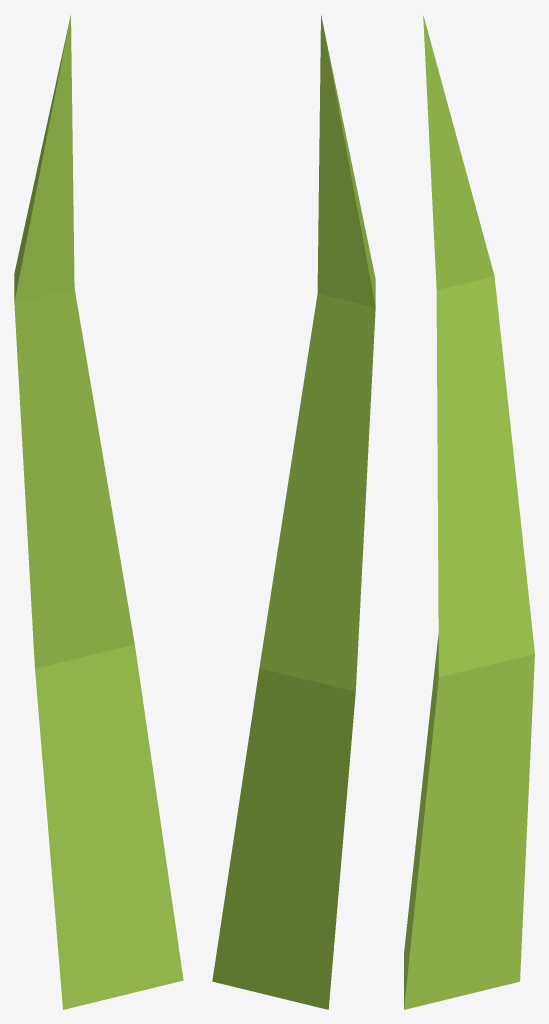
Rendered from blade01.fbx.
The picture shows the model from 3 angles, left to right: view 1: azimuth 30°, elevation 25°; view 2: azimuth 210°, elevation 25°; view 3: azimuth 270°, elevation 25°; orthographic projection. The views are drawn at different scales.
Parts seen in each view (by area): view 1: GrassBlade; view 2: GrassBlade; view 3: GrassBlade.
Part boxes in pixels (x1,y1,x2,y2): GrassBlade: [14, 15, 183, 1009]; GrassBlade: [212, 15, 375, 1009]; GrassBlade: [404, 15, 534, 1009].
Bounding box in the file's own units: 2.73 × 16.88 × 2.11.
